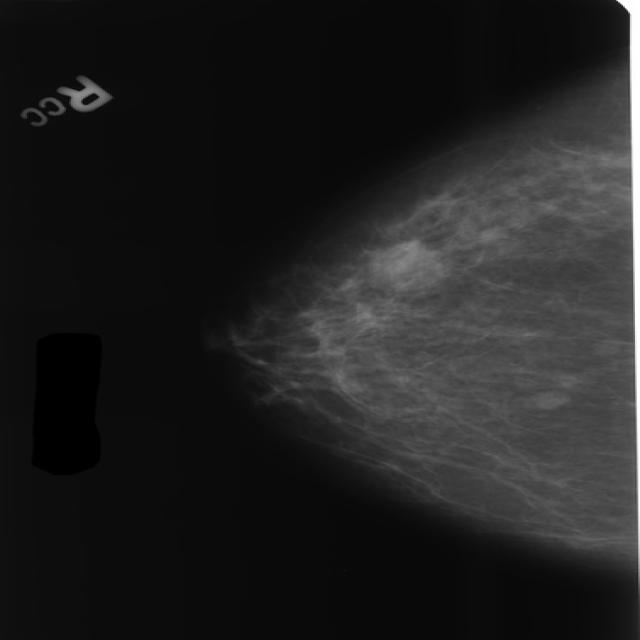tumour: (523, 387, 569, 408)
